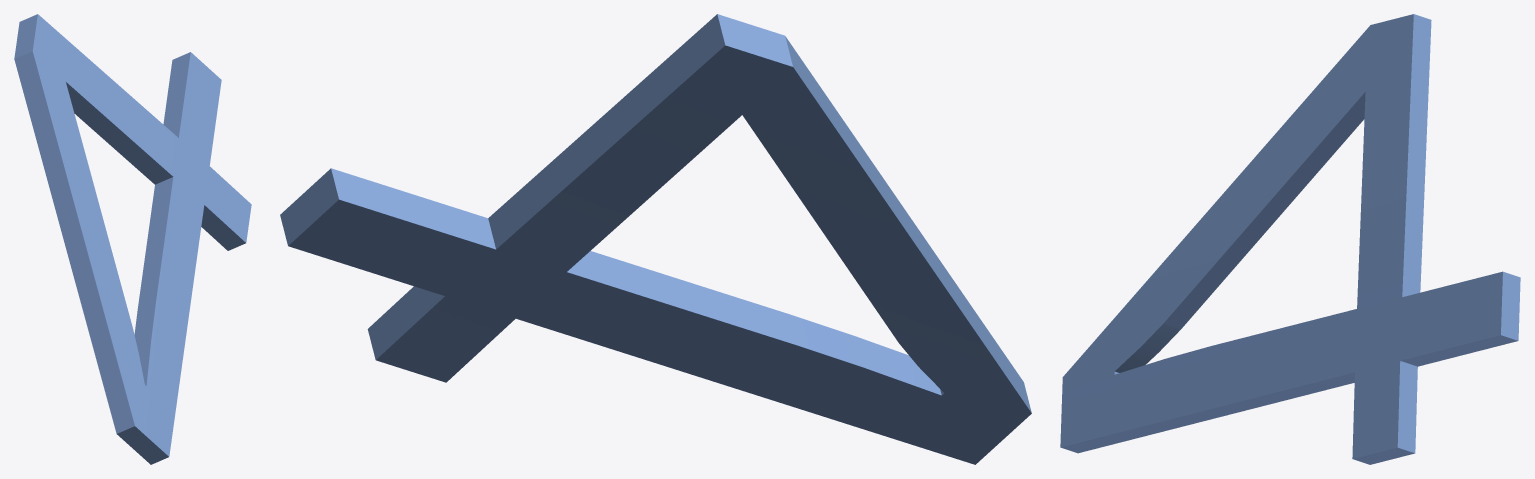
File: New_Number_4.gltf
3 renders of one model, left to right at view 1: azimuth 30°, elevation 25°; view 2: azimuth 150°, elevation 25°; view 3: azimuth 270°, elevation 25°, orthographic. The views are drawn at different scales.
Parts seen in each view (by area): view 1: Part 337; view 2: Part 337; view 3: Part 337.
Boxes of the visible parts, box(x1,y1,x2,y2) form: Part 337: box(14, 14, 251, 464); Part 337: box(280, 14, 1031, 464); Part 337: box(1060, 14, 1520, 464).
Size of the model in its own units: 0.00358 by 0.00447 by 0.00414.
